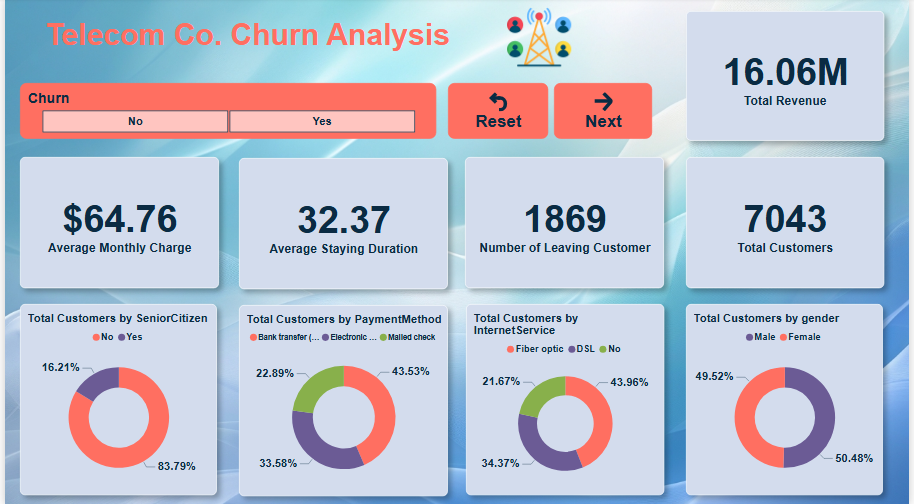

What the dashboard file says about the page in this screenshot:
{"tool":"powerbi","page":{"name":"Page 1","canvas":[1280,720],"ordinal":0},"visuals":[{"type":"textbox","box":[21.8,26.9,618.2,57.1],"z":0},{"type":"image","box":[666.9,0,179.7,110.9],"z":1000},{"type":"slicer","title":"Churn","fields":{"Values":["Cleaned_Customer_Churn_Data.Churn"]},"box":[21.3,120.5,589.6,79.4],"z":3000},{"type":"actionButton","box":[627.9,120.5,141.7,79.4],"z":4000},{"type":"actionButton","box":[778.1,120.5,138.9,79.4],"z":5000},{"type":"donutChart","title":"Total Customers by SeniorCitizen","fields":{"Y":["KPIs.Total Customers"],"Category":["Cleaned_Customer_Churn_Data.SeniorCitizen"]},"box":[21.3,433.7,279.2,270.7],"z":6000},{"type":"donutChart","title":"Total Customers by PaymentMethod","fields":{"Y":["KPIs.Total Customers"],"Category":["Cleaned_Customer_Churn_Data.PaymentMethod"]},"box":[331.7,435.1,296.2,270.7],"z":7000},{"type":"donutChart","title":"Total Customers by InternetService","fields":{"Y":["KPIs.Total Customers"],"Category":["Cleaned_Customer_Churn_Data.InternetService"]},"box":[653.4,433.7,280.6,270.7],"z":8000},{"type":"donutChart","title":"Total Customers by gender","fields":{"Category":["Cleaned_Customer_Churn_Data.gender"],"Y":["KPIs.Total Customers"]},"box":[965.2,433.7,279.2,270.7],"z":9000},{"type":"card","fields":{"Values":["KPIs.Average Monthly Charge"]},"box":[21.3,225.4,282,185.7],"z":10000},{"type":"card","fields":{"Values":["KPIs.Average Staying Duration"]},"box":[331.7,226.8,296.2,185.7],"z":11000},{"type":"card","fields":{"Values":["KPIs.Number of Leaving Customer"]},"box":[652,225.4,282,185.7],"z":12000},{"type":"card","fields":{"Values":["KPIs.Total Customers"]},"box":[965.2,225.4,280.6,185.7],"z":13000},{"type":"card","fields":{"Values":["KPIs.Total Revenue"]},"box":[965.2,18.4,280.6,184.3],"z":14000}]}

Visuals, with their boxes in screenshot pixels (x1, y1, x2, y2), scaled from the page's 1280x720 canvas onto the 914x504 screenshot:
textbox: l=16, t=19, r=457, b=59
image: l=476, t=0, r=605, b=78
"Churn" slicer: l=15, t=84, r=436, b=140
actionButton: l=448, t=84, r=550, b=140
actionButton: l=556, t=84, r=655, b=140
"Total Customers by SeniorCitizen" donutChart: l=15, t=304, r=215, b=493
"Total Customers by PaymentMethod" donutChart: l=237, t=305, r=448, b=494
"Total Customers by InternetService" donutChart: l=467, t=304, r=667, b=493
"Total Customers by gender" donutChart: l=689, t=304, r=889, b=493
card - KPIs.Average Monthly Charge: l=15, t=158, r=217, b=288
card - KPIs.Average Staying Duration: l=237, t=159, r=448, b=289
card - KPIs.Number of Leaving Customer: l=466, t=158, r=667, b=288
card - KPIs.Total Customers: l=689, t=158, r=890, b=288
card - KPIs.Total Revenue: l=689, t=13, r=890, b=142
